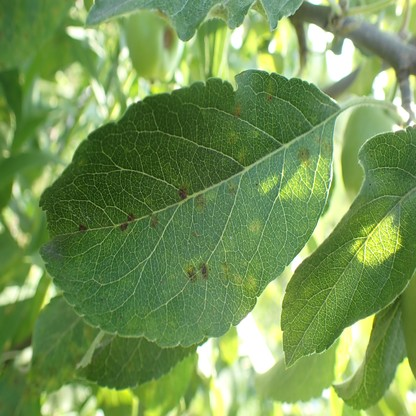powdery_mildew: (40, 239, 59, 256)
scab: (65, 342, 86, 366), (315, 136, 330, 153), (298, 146, 311, 165), (264, 81, 273, 105), (198, 262, 208, 283), (195, 194, 206, 211), (186, 265, 196, 282), (247, 272, 257, 289), (250, 219, 261, 234), (227, 132, 238, 147), (221, 262, 230, 279), (236, 150, 246, 164), (149, 213, 158, 228), (232, 104, 241, 119), (47, 364, 58, 376), (177, 186, 187, 199), (226, 179, 234, 195), (236, 273, 244, 288), (78, 223, 86, 234), (120, 222, 128, 232), (250, 129, 258, 137), (126, 212, 133, 220)
